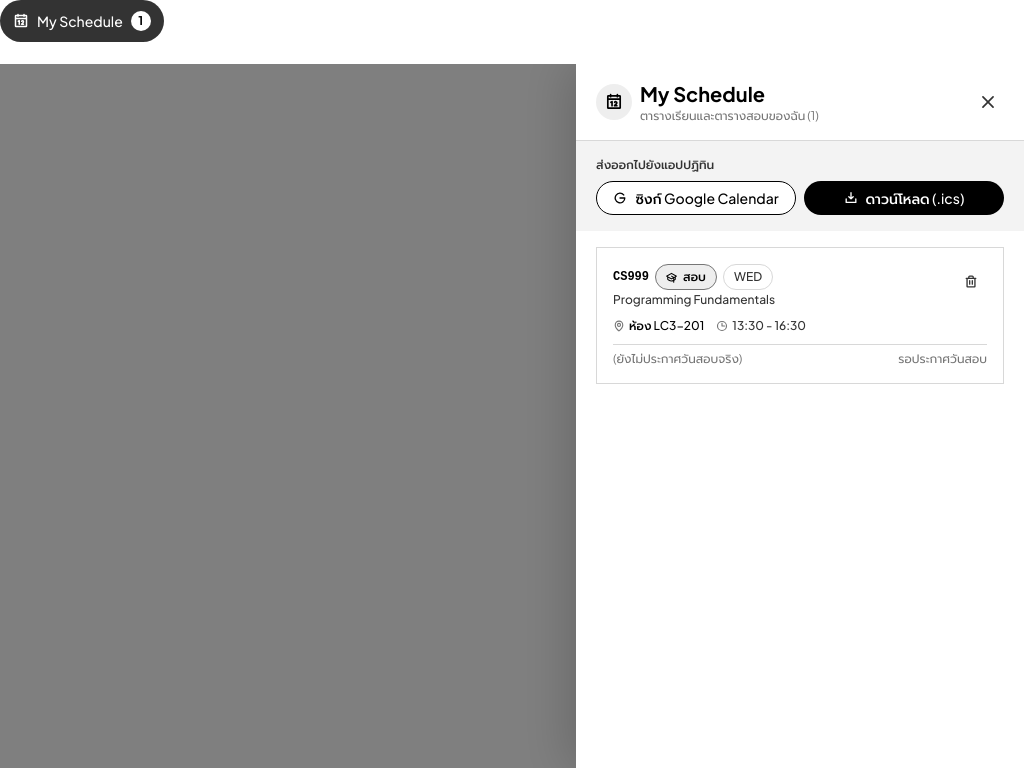
Test: MyScheduleDrawer Component › Google Calendar sync › shows the skipped-exam notice for unannounced exams
Click the button with test id "sync-google-button" at (696, 198), box [596, 181, 796, 215]
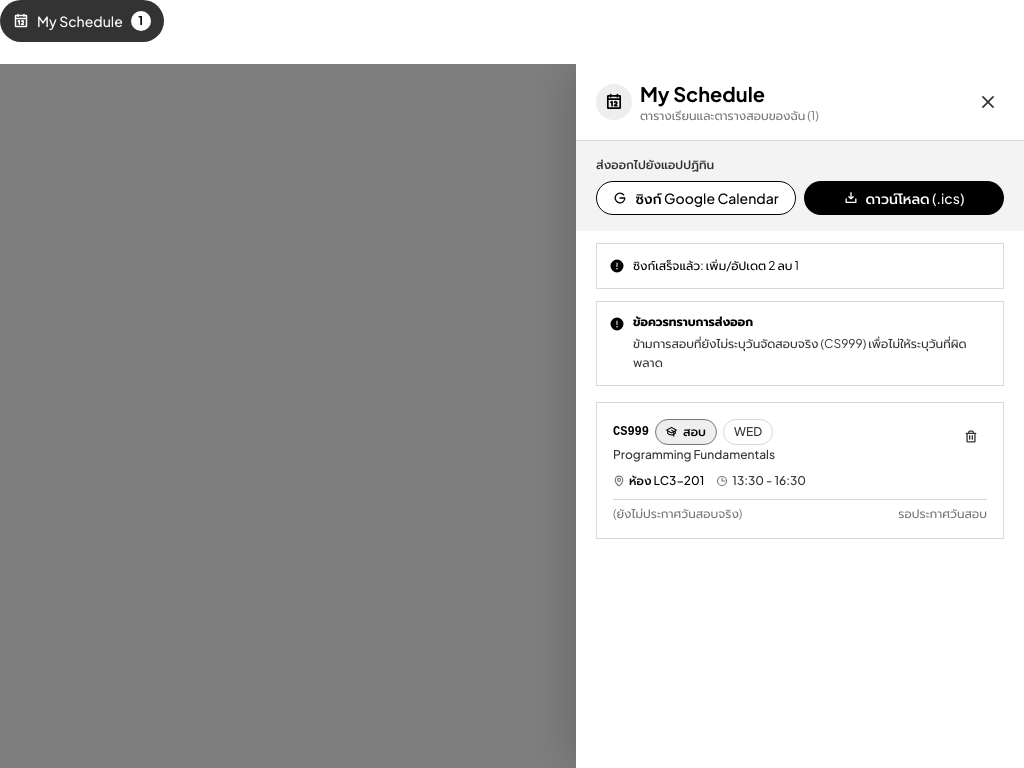
Expected: the text "ข้ามการสอบที่ยังไม่ระบุวันจัดสอบจริง (CS999)" is shown, [633, 336, 966, 370]
